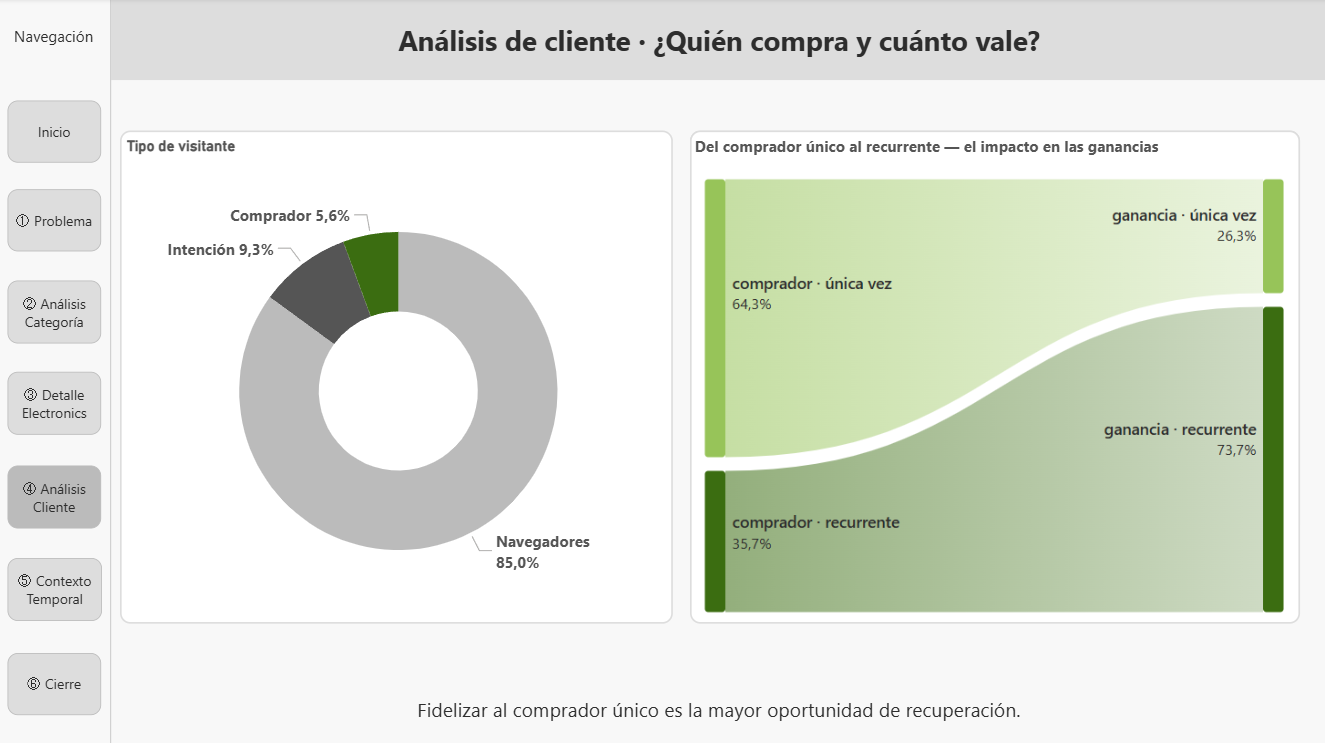

This screenshot's page, from the dashboard's own definition file:
{"tool":"powerbi","page":{"name":"Cliente","canvas":[1280,720],"ordinal":4},"visuals":[{"type":"sankey02300D1BE6F5427989F3DE31CCA9E0F32020","title":"Del comprador único al recurrente — el impacto en las ganancias","fields":{"Destination":["tabla_sankey.destino"],"Source":["tabla_sankey.origen"]},"box":[665.5,128.2,588.5,389.4],"z":0},{"type":"donutChart","title":"Tipo de visitante","fields":{"Y":["agg_tipologia_visitante.03_Pct_Navegan","agg_tipologia_visitante.02_Pct_Intender","agg_tipologia_visitante.01Pct_Buyer"]},"box":[116,128.2,533.4,476.1],"z":1000},{"type":"shape","box":[107.4,0,1173.1,79.3],"z":2000},{"type":"shape","box":[1221.2,304.6,32.8,171.4],"z":3000},{"type":"shape","box":[665.5,304.6,32.8,171.4],"z":4000},{"type":"shape","box":[107.4,655.5,1173.1,63.5],"z":5000},{"type":"shape","box":[665.5,128.2,588.5,476.3],"z":6000},{"type":"image","box":[675.5,169.9,568.8,424.8],"z":7000},{"type":"shape","box":[0,0,213.6,720.2],"z":8000},{"type":"textbox","box":[3.7,22,96.4,36.6],"z":9000},{"type":"actionButton","box":[7.3,98.9,90.3,59.8],"z":10000},{"type":"actionButton","box":[7.3,272.2,90.3,61],"z":11000},{"type":"actionButton","box":[7.3,540.8,91.6,61],"z":12000},{"type":"actionButton","box":[7.3,451.7,90.3,61],"z":13000},{"type":"actionButton","box":[7.3,632.3,90.3,59.8],"z":14000},{"type":"actionButton","box":[7.3,361.3,90.3,61],"z":15000},{"type":"actionButton","box":[7.3,184.3,90.3,59.8],"z":16000}]}

Visuals, with their boxes on the page's 1280x720 design canvas (x1, y1, x2, y2). These are canvas units, not pixel positions in the 1325x743 screenshot, which may show the page scaled, cropped or inside an application window:
"Del comprador único al recurrente — el impacto en las ganancias" sankey02300D1BE6F5427989F3DE31CCA9E0F32020: rect(666, 128, 1254, 518)
"Tipo de visitante" donutChart: rect(116, 128, 649, 604)
shape: rect(107, 0, 1280, 79)
shape: rect(1221, 305, 1254, 476)
shape: rect(666, 305, 698, 476)
shape: rect(107, 656, 1280, 719)
shape: rect(666, 128, 1254, 604)
image: rect(676, 170, 1244, 595)
shape: rect(0, 0, 214, 720)
textbox: rect(4, 22, 100, 59)
actionButton: rect(7, 99, 98, 159)
actionButton: rect(7, 272, 98, 333)
actionButton: rect(7, 541, 99, 602)
actionButton: rect(7, 452, 98, 513)
actionButton: rect(7, 632, 98, 692)
actionButton: rect(7, 361, 98, 422)
actionButton: rect(7, 184, 98, 244)
